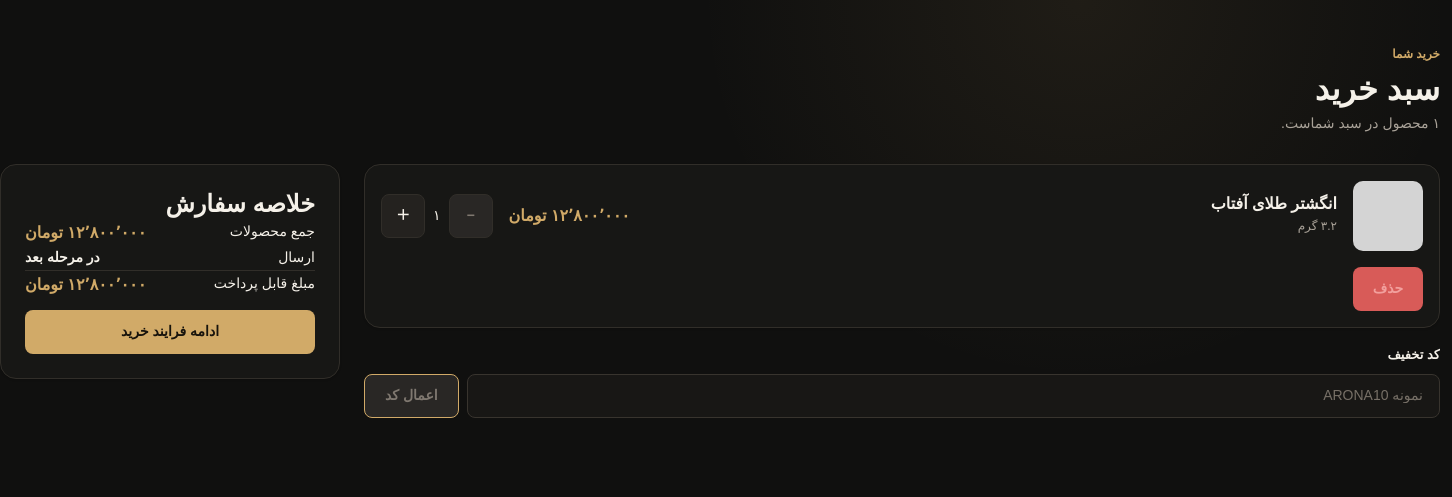
Test case: wires the actual quantity controls, preserves a valid coupon after an invalid attempt, and removes the last item
Expected: the button named "کاهش تعداد" is disabled, x1=448 y1=194 x2=492 y2=238
Click the button named "افزایش تعداد" at (403, 216), box x1=381 y1=194 x2=425 y2=238
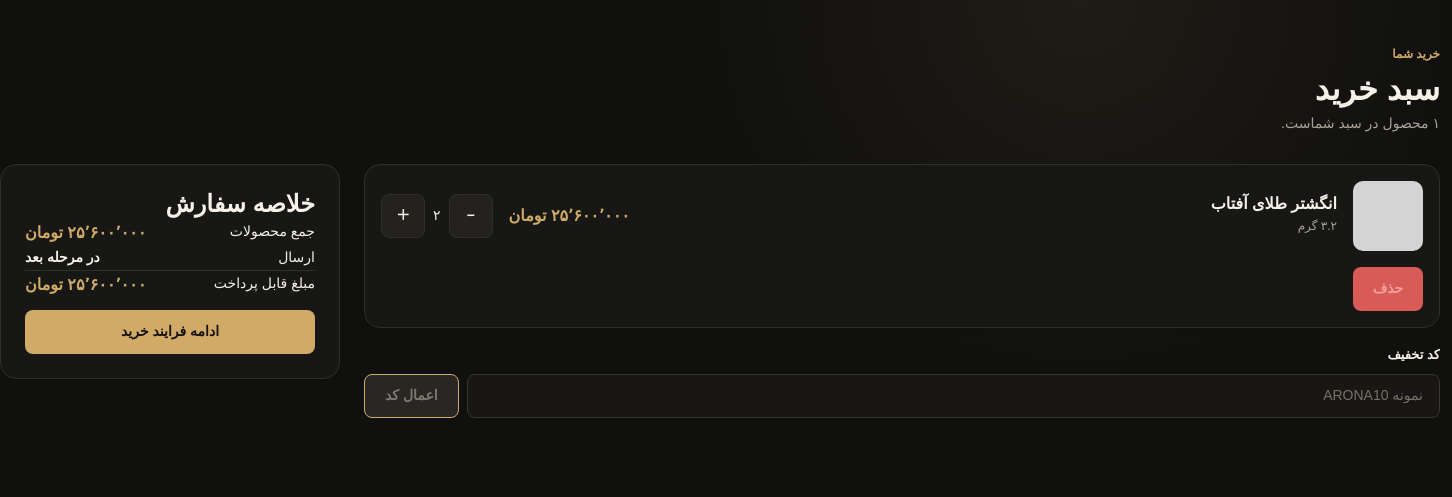
Type "ARONA10" into the field labelled "کد تخفیف" at (953, 396), box x1=467 y1=374 x2=1440 y2=418
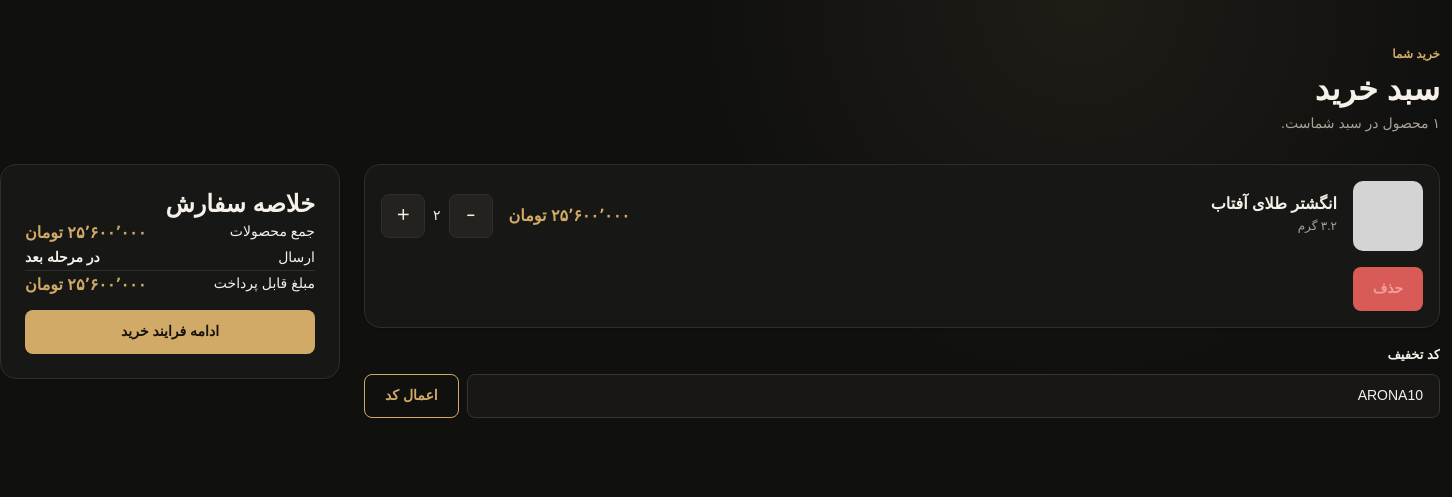
Click the button "اعمال کد" at (411, 396), box x1=364 y1=374 x2=459 y2=418
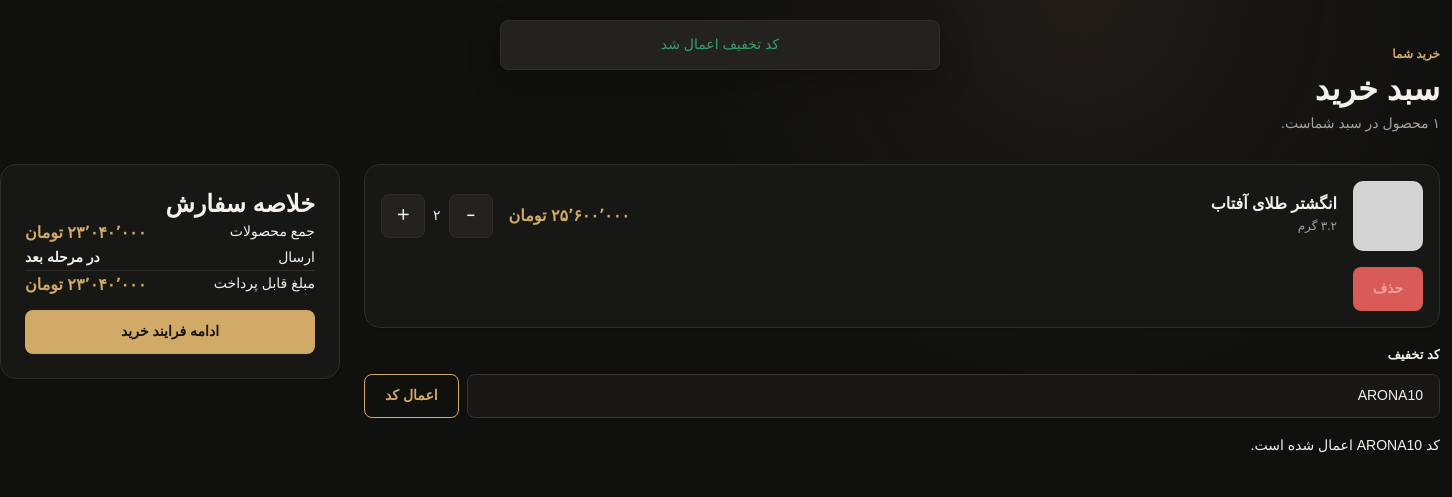
Replace the text in the field labelled "کد تخفیف" with "invalid" at (953, 396), box x1=467 y1=374 x2=1440 y2=418
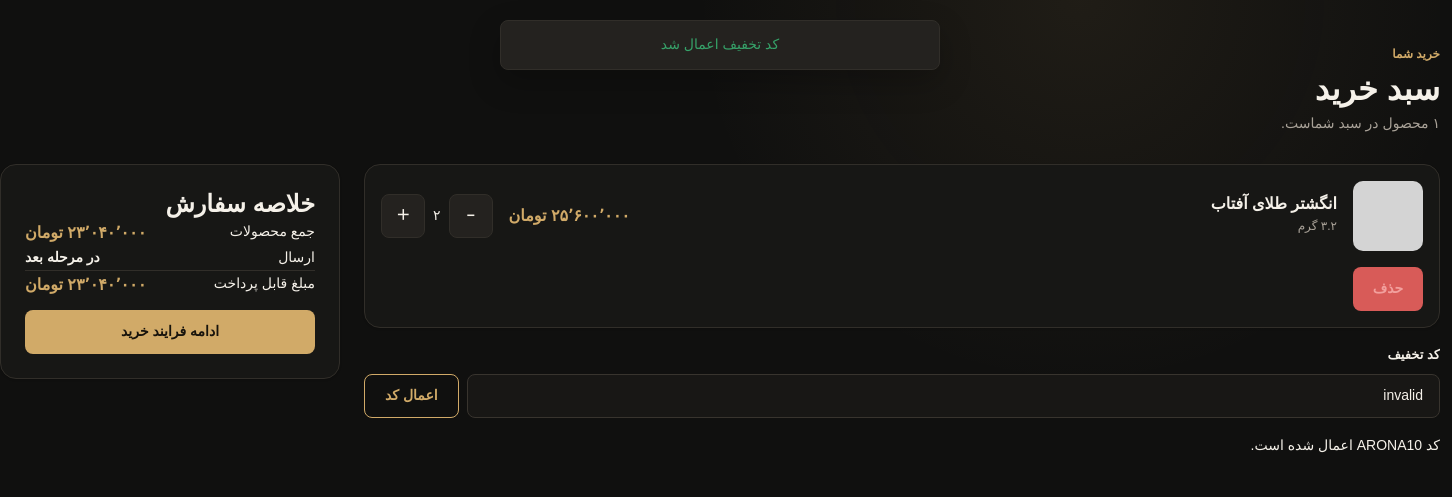
Click the button "اعمال کد" at (411, 396), box x1=364 y1=374 x2=459 y2=418
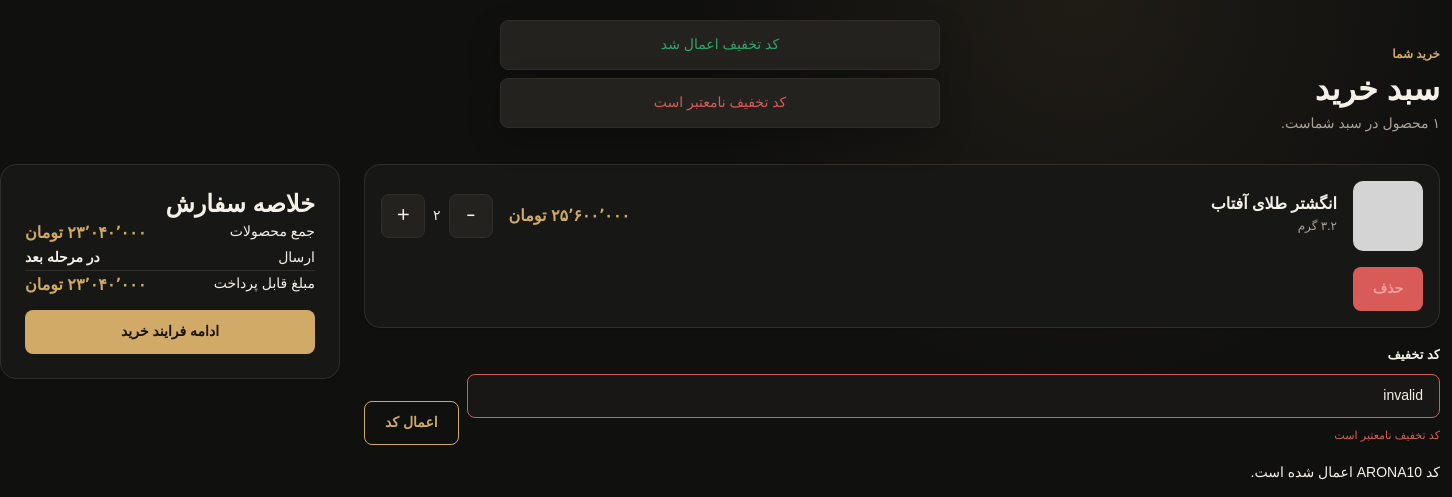
Click the button "حذف" at (1388, 289), box x1=1353 y1=267 x2=1423 y2=311
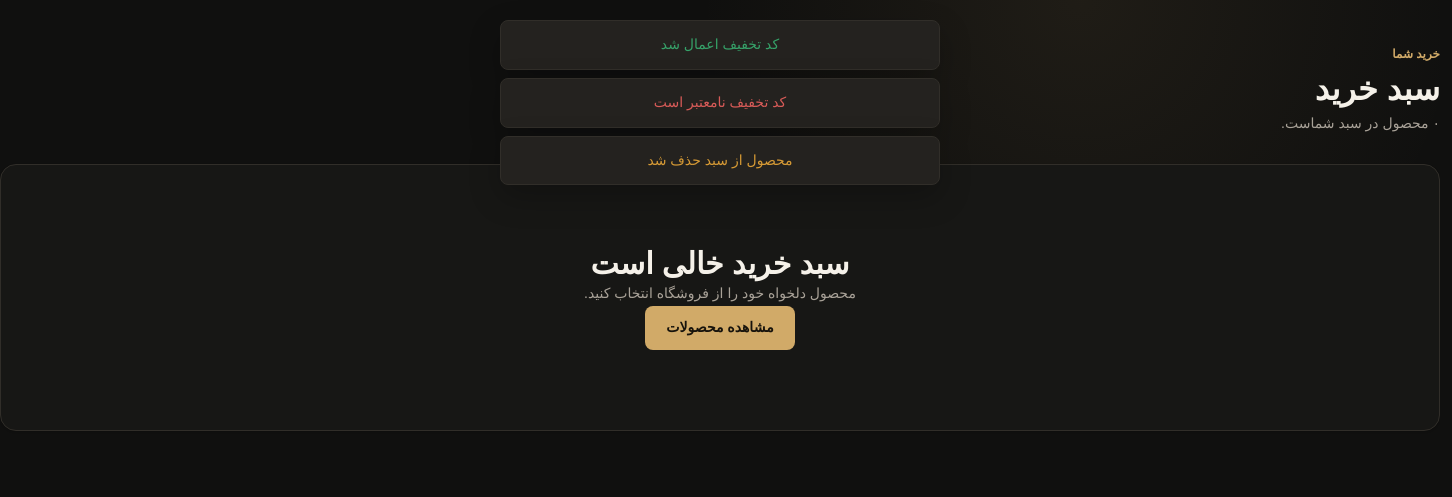
Now the heading "سبد خرید خالی است" is shown, box x1=590 y1=247 x2=849 y2=280
